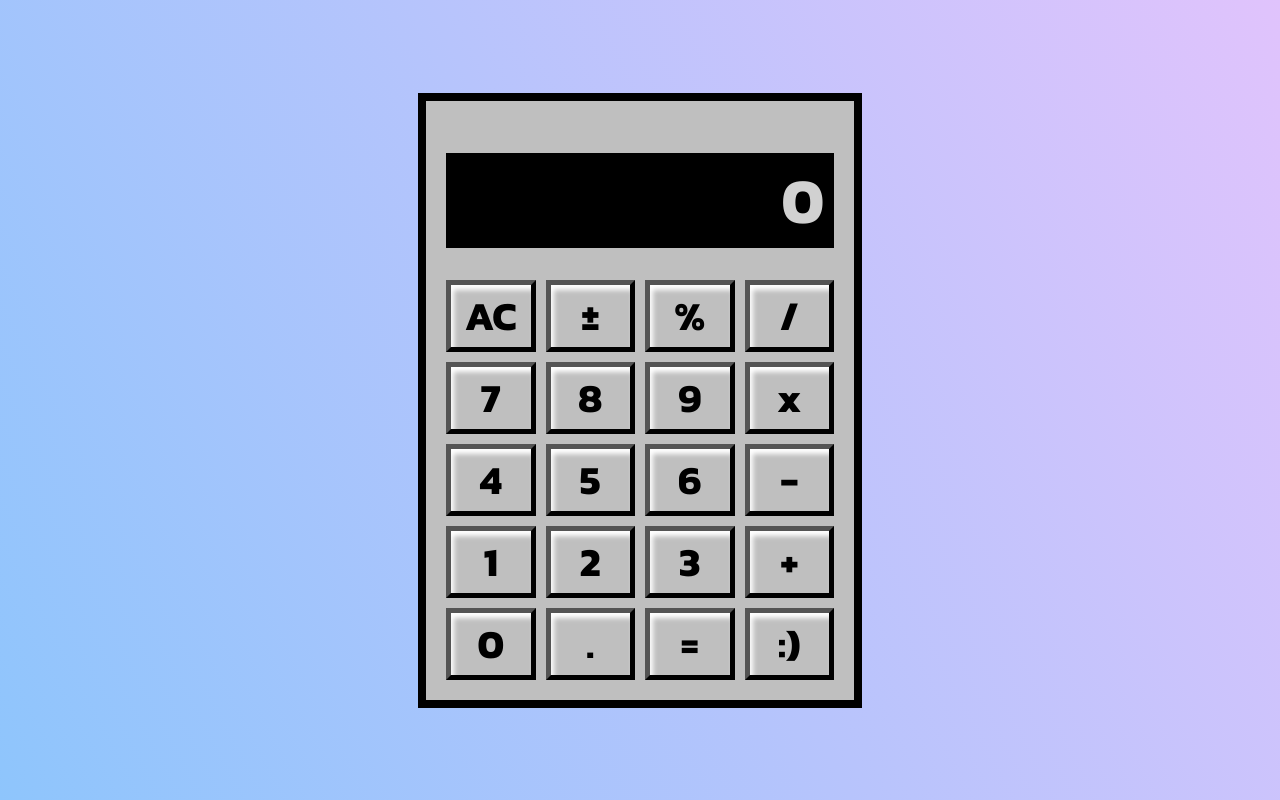
Test case: Componente Calculadora › Realiza la resta correctamente
The width and height of the screenshot is (1280, 800).
Click the button "8" at (590, 398), box 546,362 -> 635,434
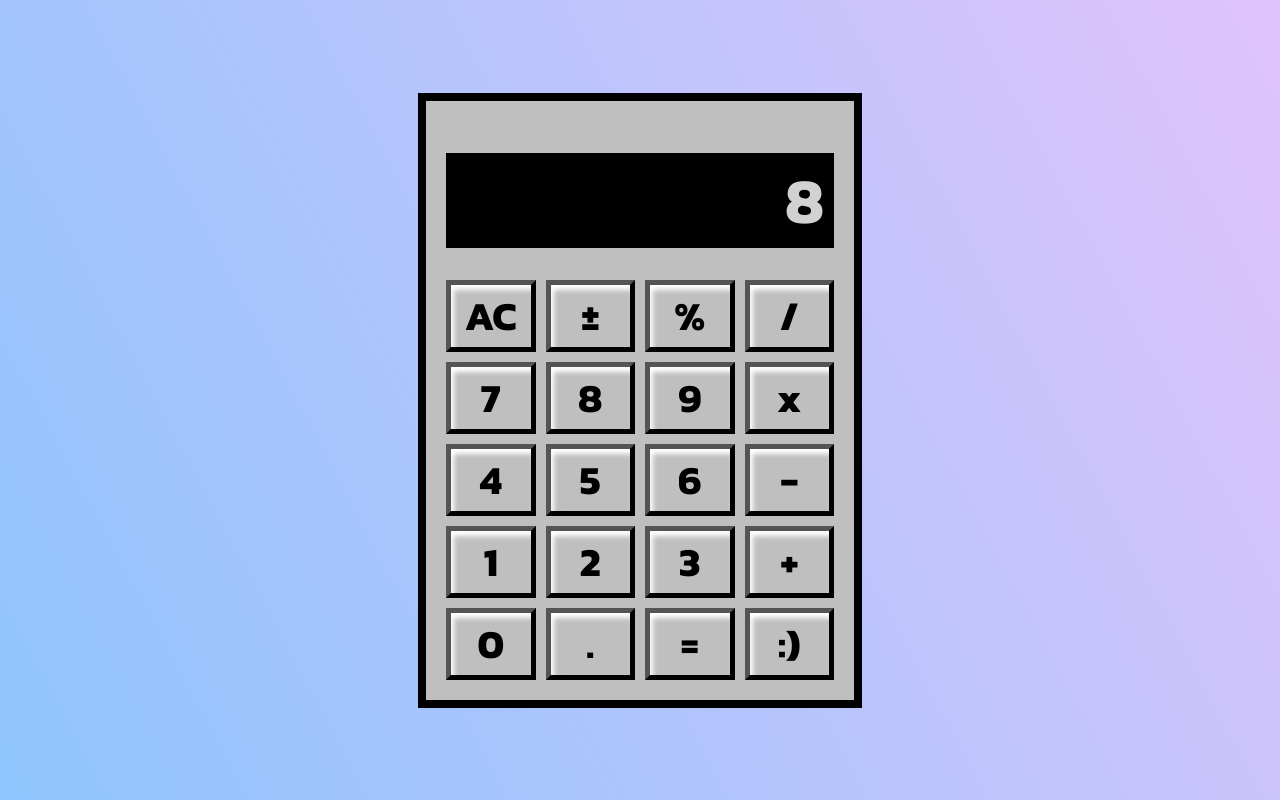
Click the button "-" at (789, 480), box 744,444 -> 834,516
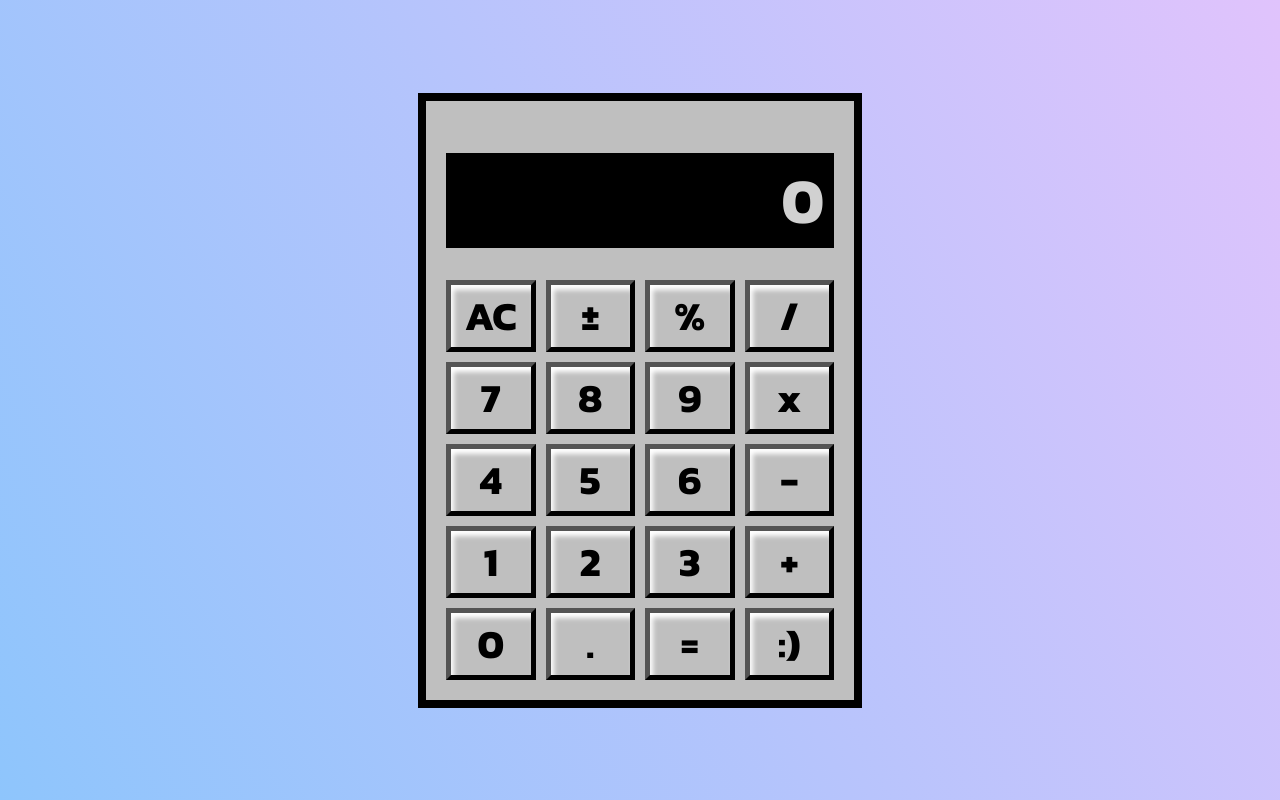
Click the button "3" at (690, 562), box 645,526 -> 734,598
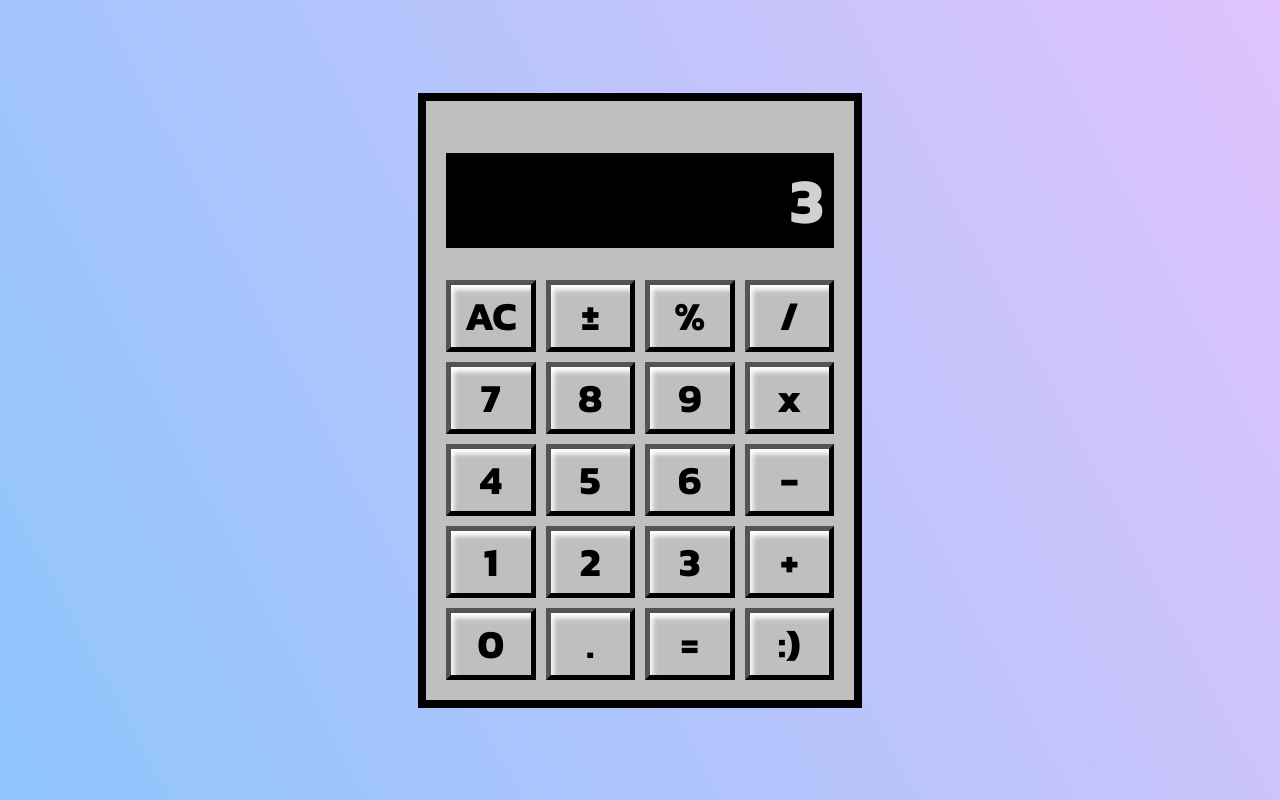
Click the button "=" at (690, 644), box 645,608 -> 734,680
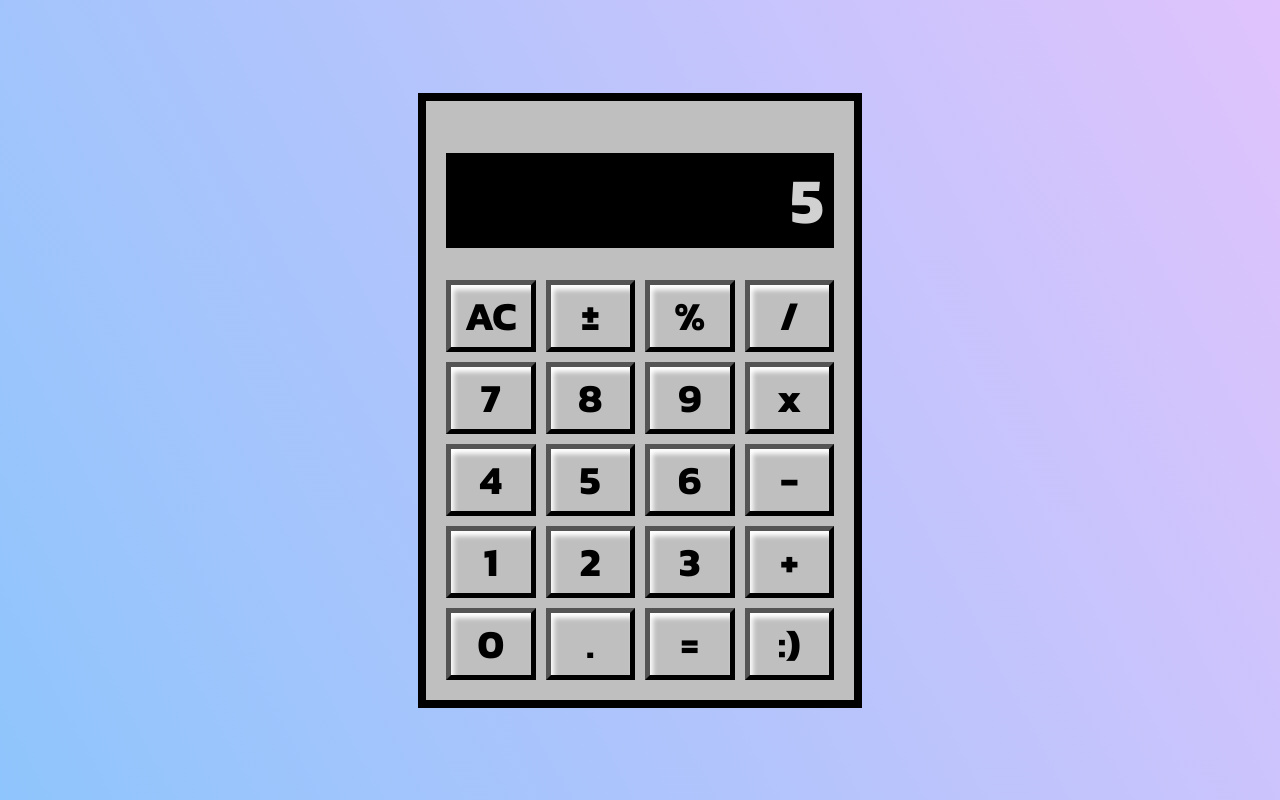
Check: the text "0" reads "5", box 790,152 -> 824,248
